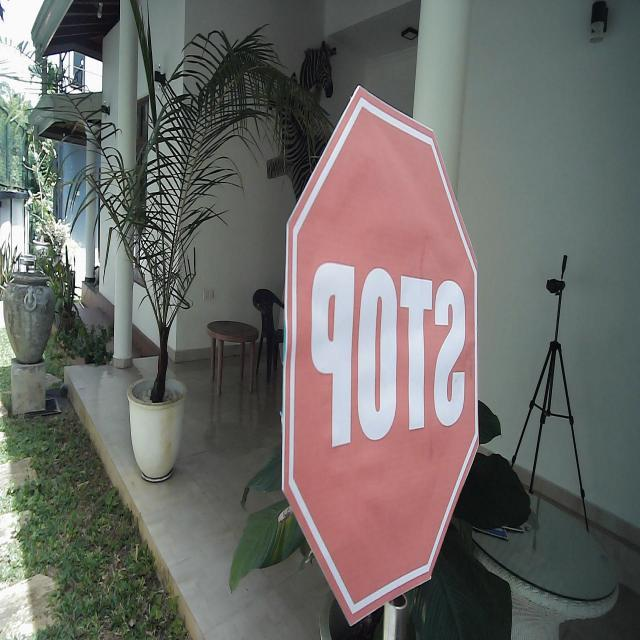stop: (280, 79, 480, 630)
